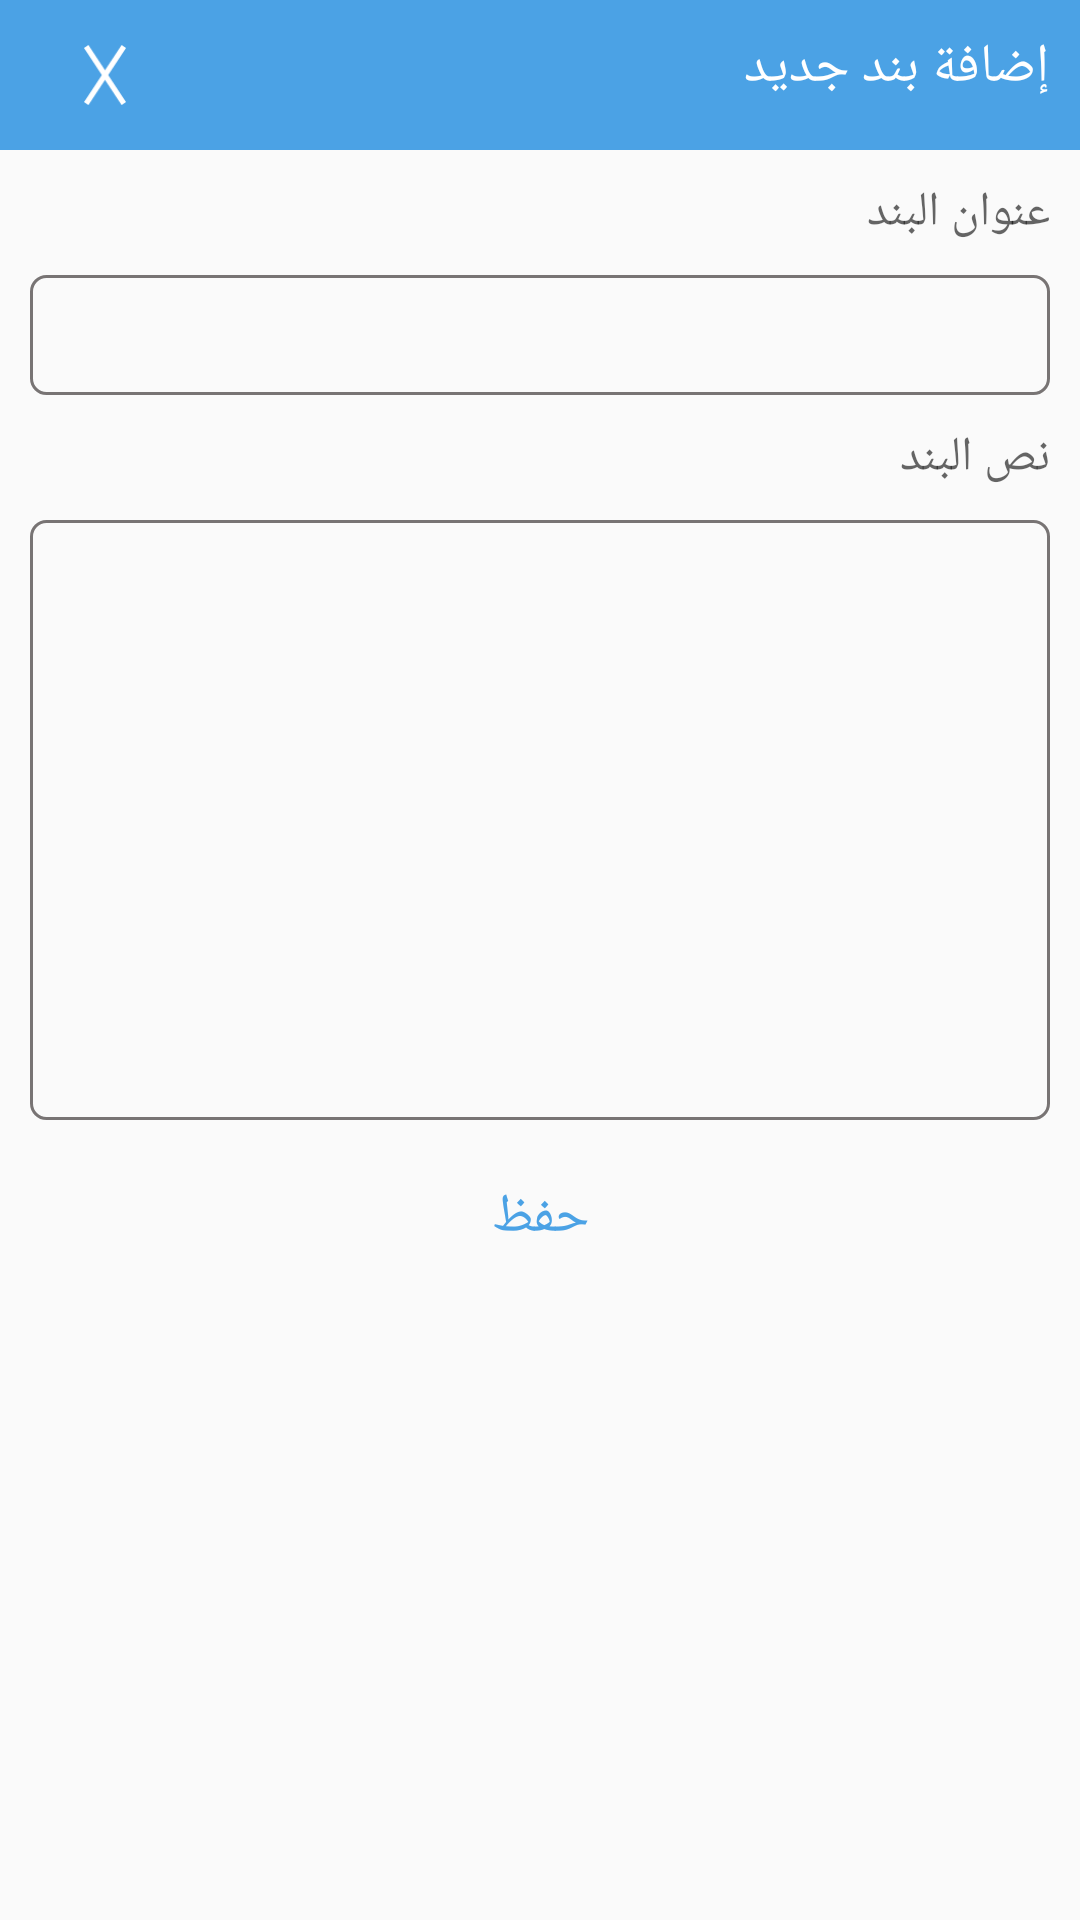

Icons on this 1080 x 1920 Android screen, each with the point to tap as (x=x, y=y):
close: (x=105, y=75)
